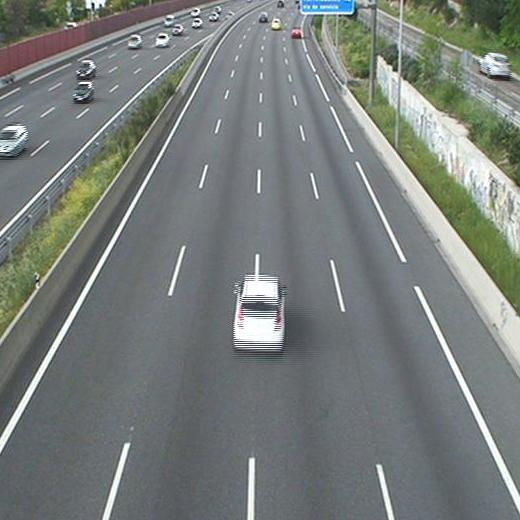car: (232, 275, 287, 352)
